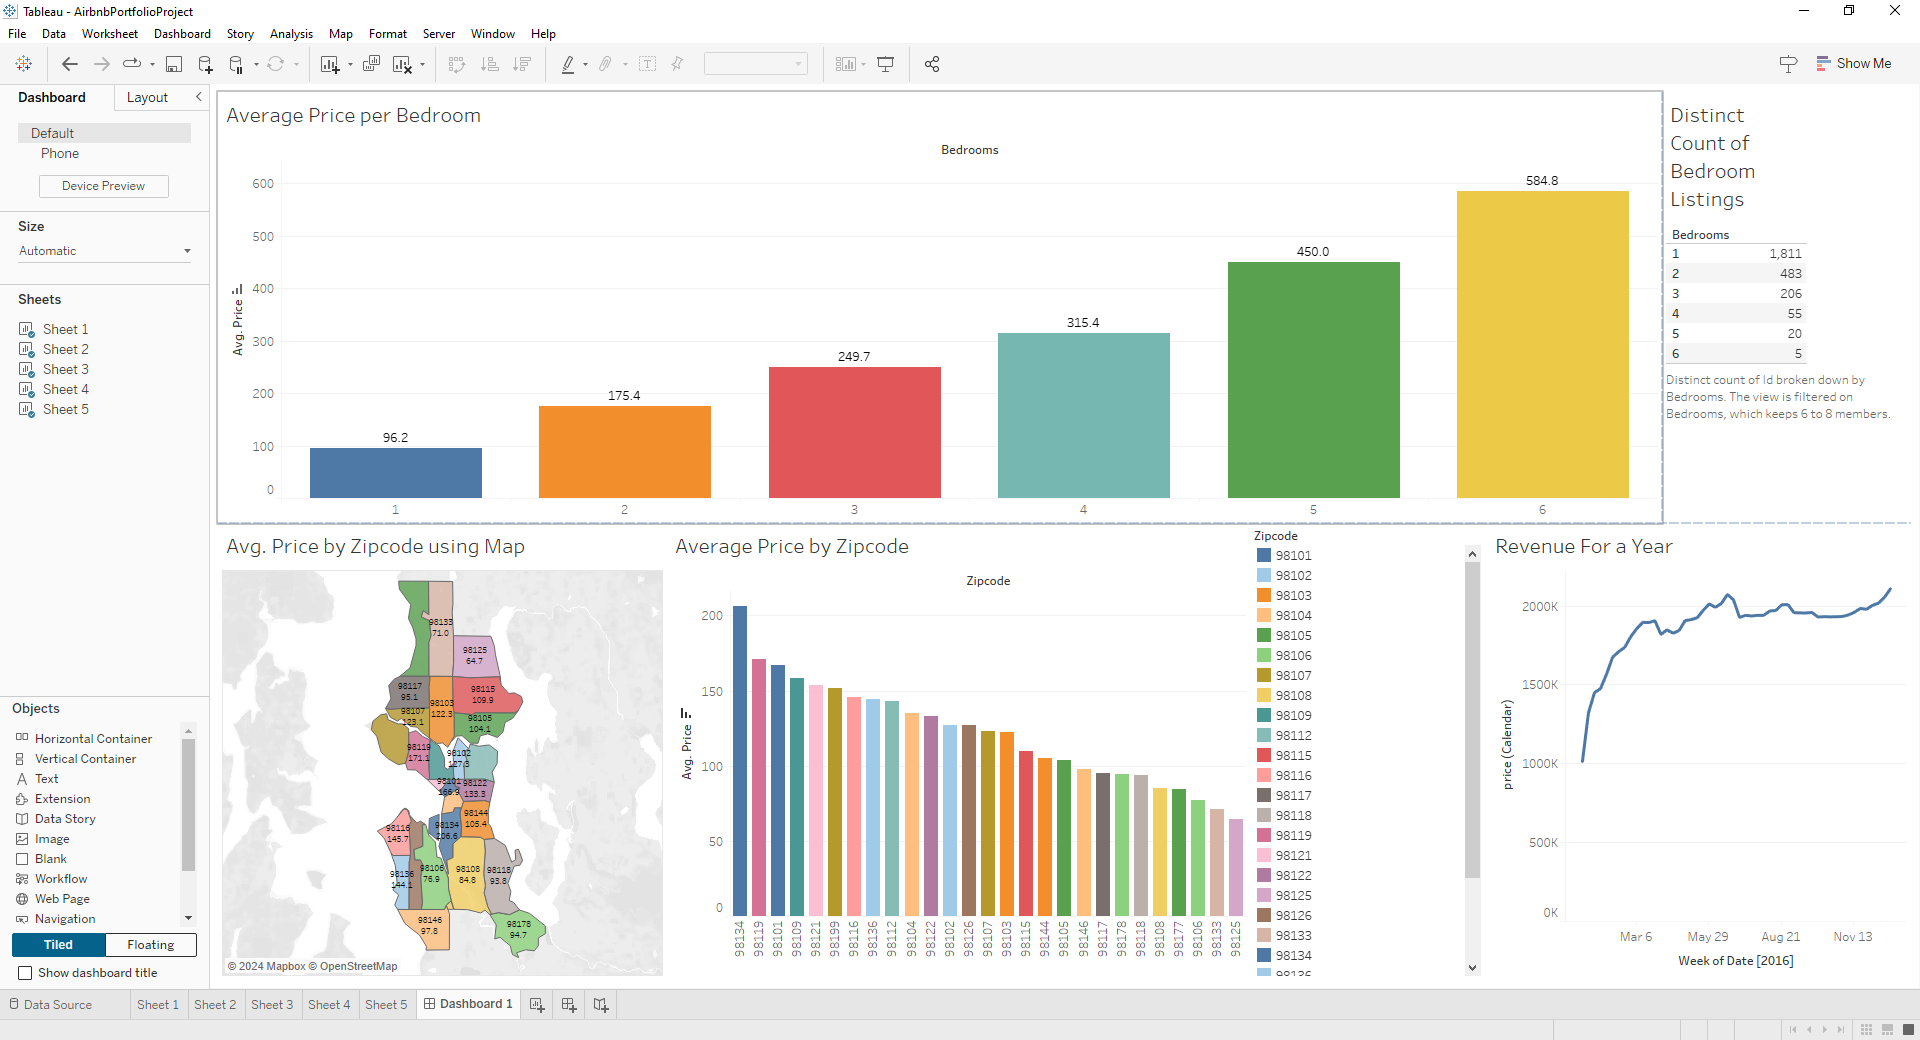

Layout of this report page (visuals, bound fields, positions):
{"tool":"tableau","page":{"name":"Dashboard 1","canvas":[1000,1000],"units":"permille","ordinal":0},"visuals":[{"type":"worksheet","title":"Sheet 4","mark":"Automatic","rows":["price"],"cols":["bedrooms"],"box":[7.5,8.9,840.4,477.1]},{"type":"worksheet","title":"Sheet 5","mark":"Automatic","rows":["bedrooms"],"box":[847.9,8.9,144.6,477.1]},{"type":"worksheet","title":"Sheet 2","mark":"Multipolygon","box":[7.5,486,207.5,505]},{"type":"worksheet","title":"Sheet 1","mark":"Automatic","rows":["price"],"cols":["zipcode"],"box":[215,486,269.6,505]},{"type":"legend","title":"Sheet 1","param":"[federated.06dya0t1mvrjvy1do551k0fwlm21].[none:zipcode:ok]","box":[484.6,486,109.8,505]},{"type":"worksheet","title":"Sheet 3","mark":"Automatic","rows":["price (Calendar)"],"cols":["date"],"box":[594.4,486,398.1,505]}]}

Visuals, with their boxes on the dashboard's canvas, which has no fixed pixel size, in thousandths of its width and height (x1, y1, x2, y2). These are canvas units, not pixel positions in the 1920x1040 screenshot, which may show the page scaled, cropped or inside an application window:
"Sheet 4" worksheet: crop(8, 9, 848, 486)
"Sheet 5" worksheet: crop(848, 9, 992, 486)
"Sheet 2" worksheet (Multipolygon marks): crop(8, 486, 215, 991)
"Sheet 1" worksheet: crop(215, 486, 485, 991)
"Sheet 1" legend: crop(485, 486, 594, 991)
"Sheet 3" worksheet: crop(594, 486, 992, 991)
